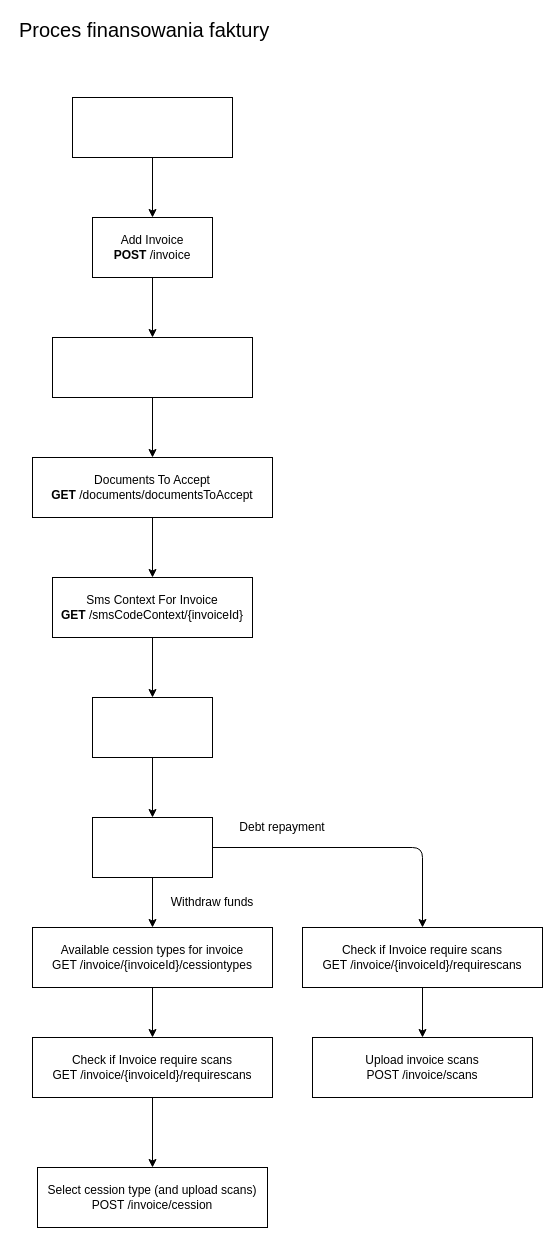
The diagram is 560 pixels wide and 1245 high, and some of its shapes have lost their labels. The shapes that lost their labels are listed below. From the top down, each one's centre as x and y in pixels, then its label:
At (152,127): "Can Add Invoice GET /client/canAddInvoice".
At (152,367): "Can Fund Invoice GET /client/canFundInvoice".
At (152,727): "Send Sms POST /sms/send".
At (152,847): "Fund Invoice POST /invoice/fund".
